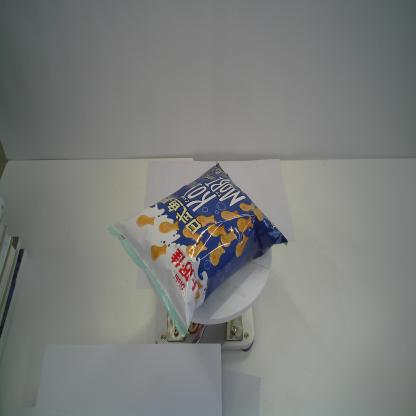Puffed Food: (106, 161, 288, 340)
